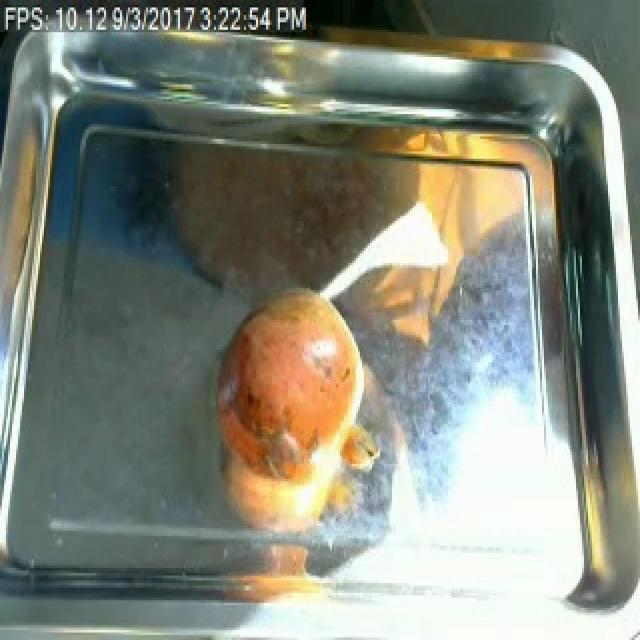fruit: (208, 270, 388, 501)
